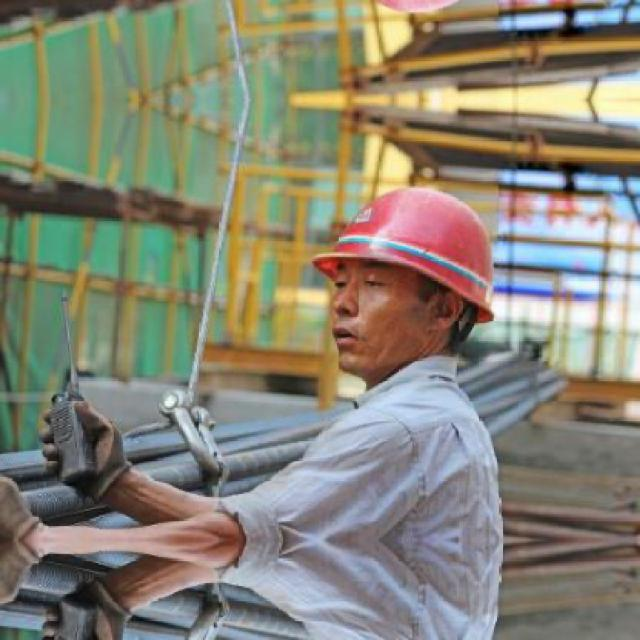con casco: (273, 193, 501, 334)
